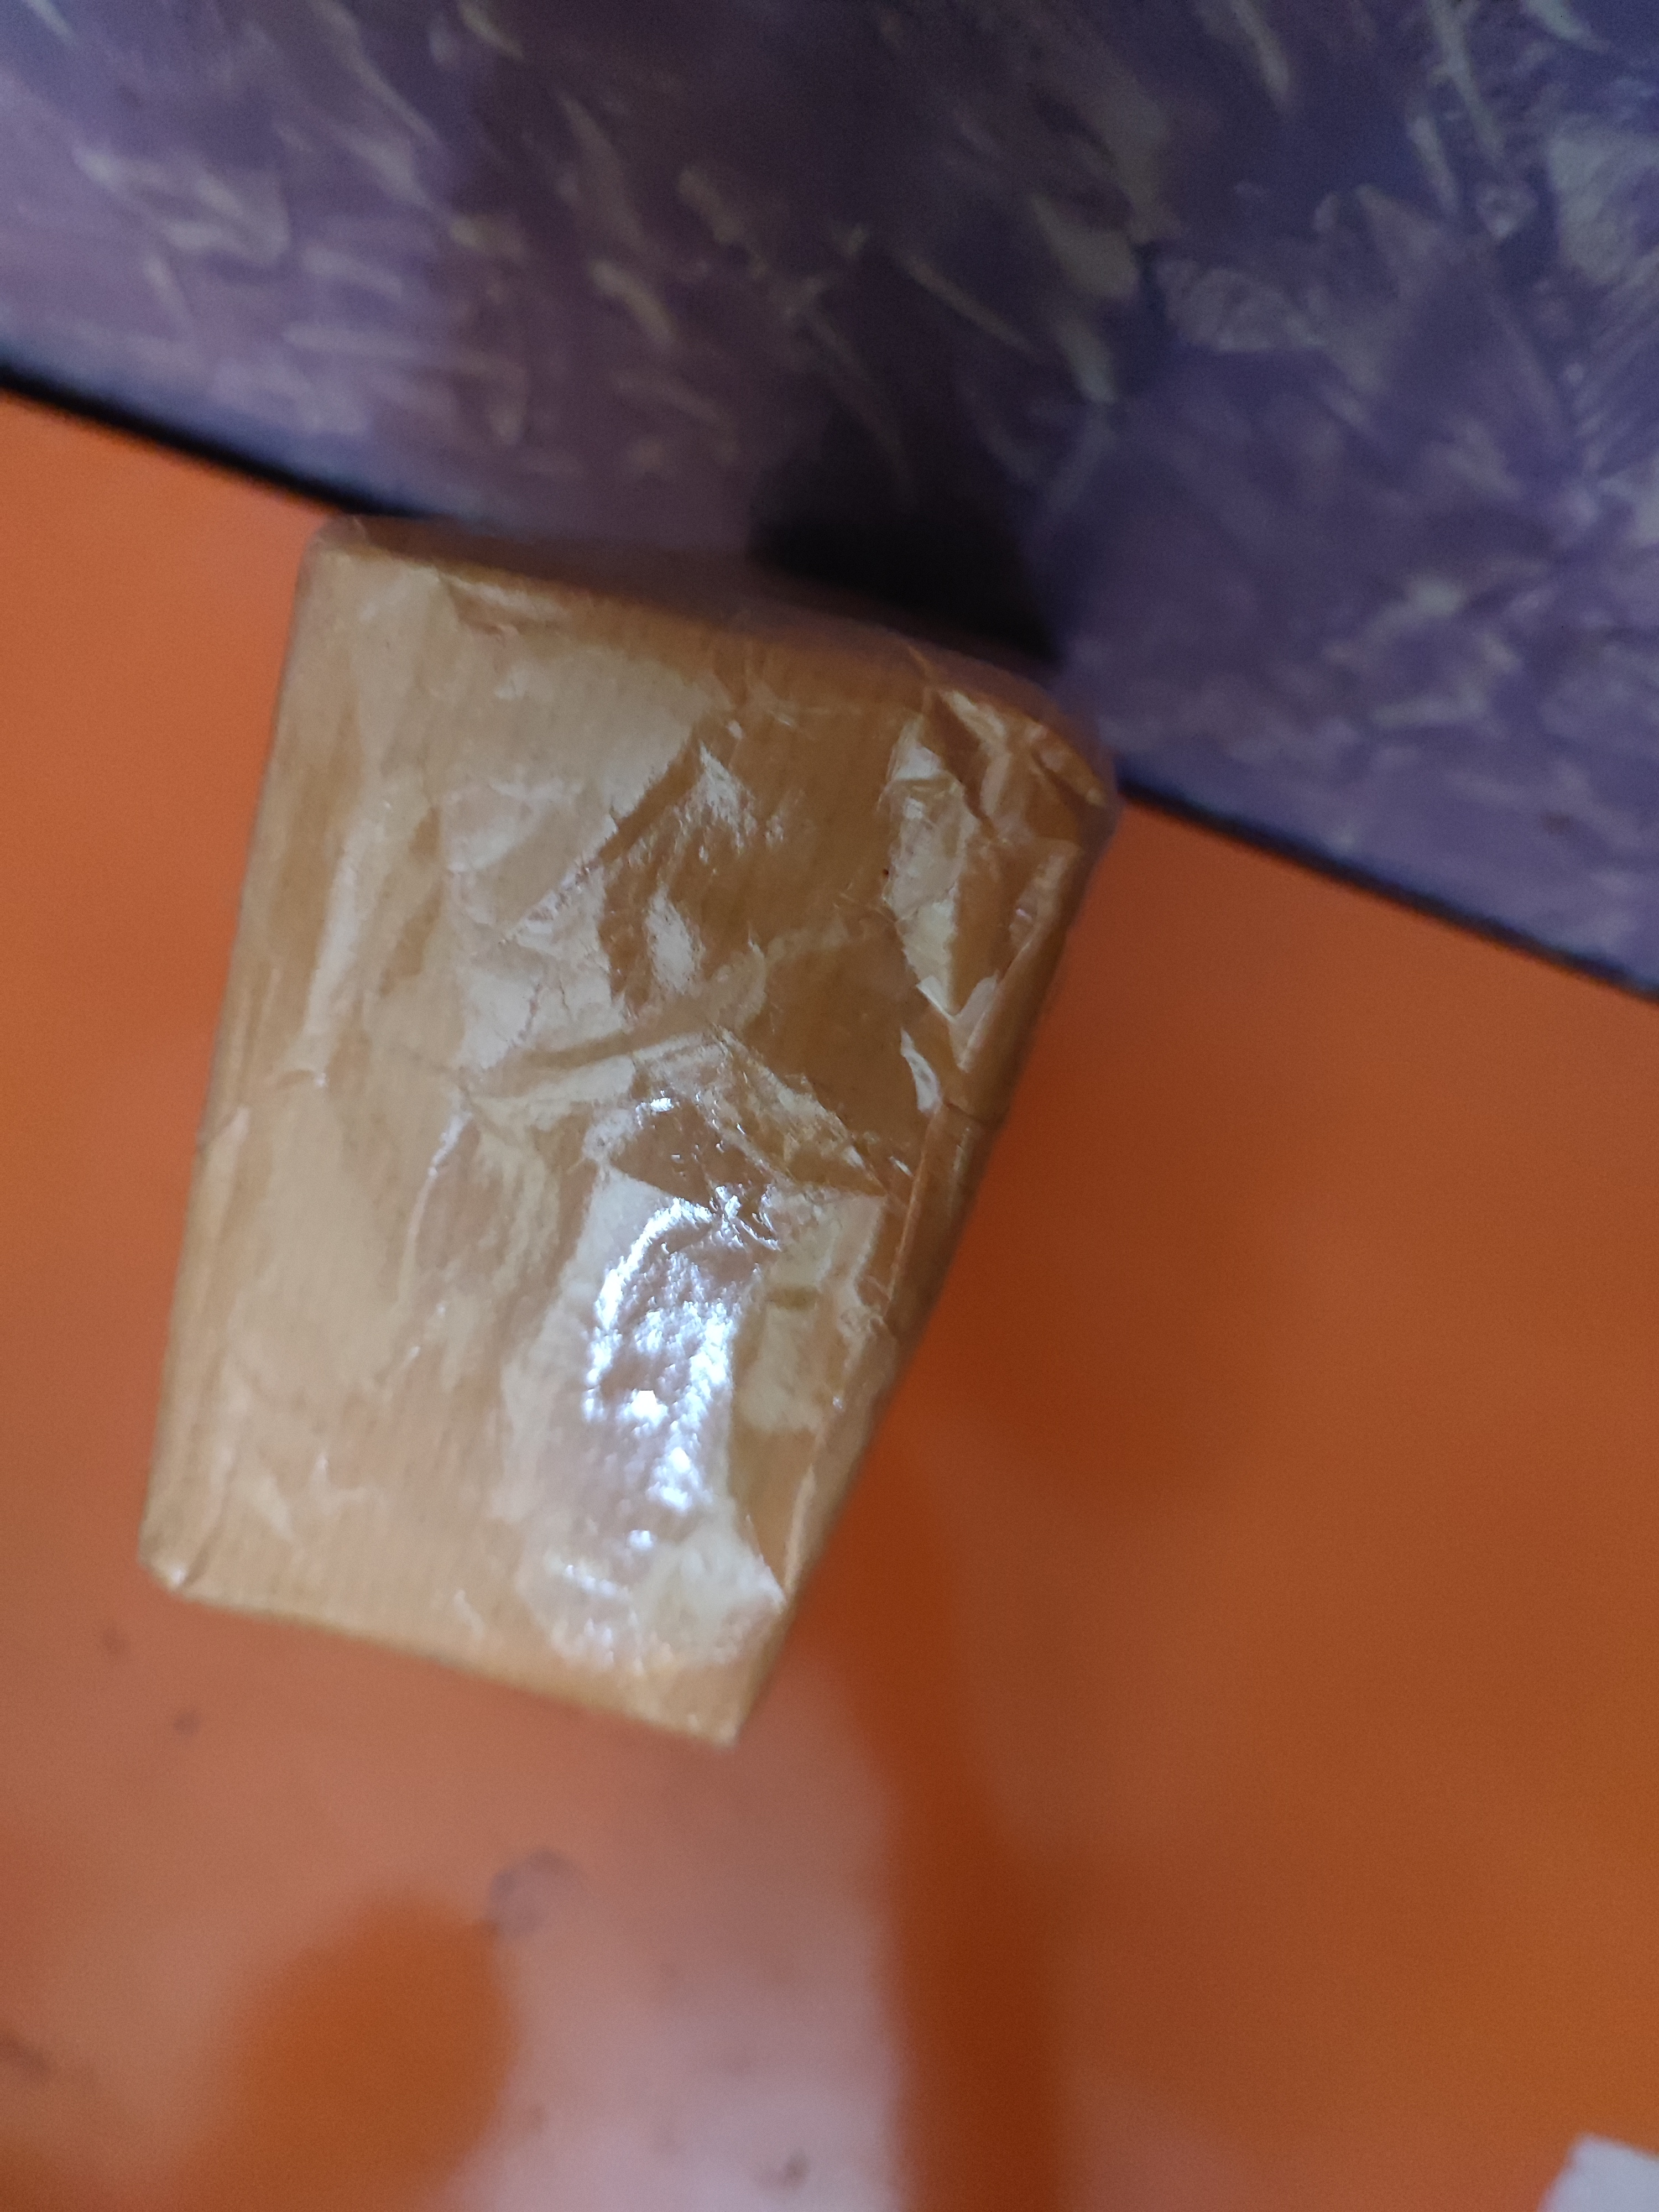Box: (188, 542, 1087, 1839)
